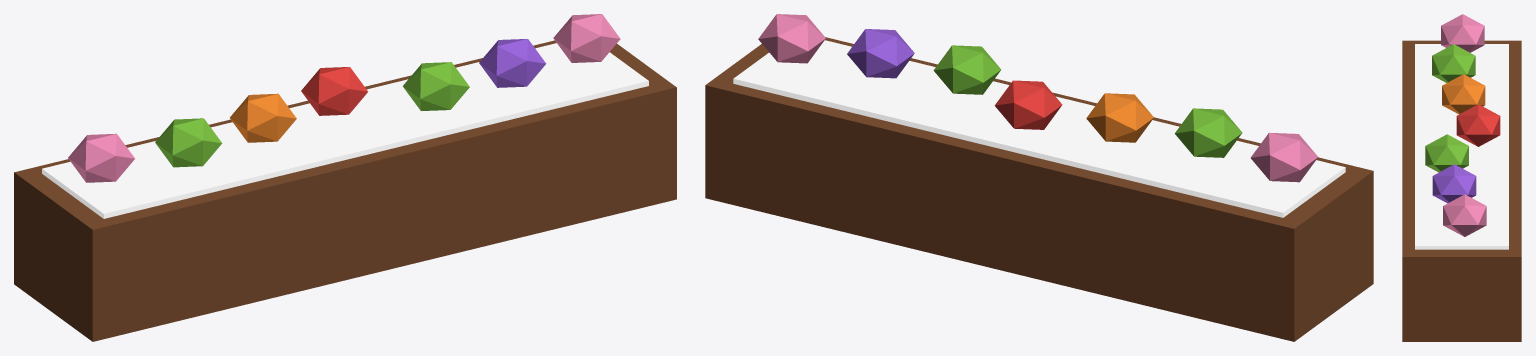
File: jardinera.glb
The picture shows the model from 3 angles, left to right: view 1: azimuth 30°, elevation 25°; view 2: azimuth 150°, elevation 25°; view 3: azimuth 270°, elevation 25°; orthographic projection. The views are drawn at different scales.
Visible parts, largest first — view 1: caja, tierra, flor_2, flor_3, flor_7, flor_1, flor_4, flor_6, flor_5; view 2: caja, tierra, flor_6, flor_2, flor_3, flor_4, flor_5, flor_7, flor_1; view 3: caja, tierra, flor_4, flor_7, flor_3, flor_6, flor_2, flor_1, flor_5.
Boxes of the visible parts, x1=… form: caja: x1=14, y1=40, x2=676, y2=341; tierra: x1=42, y1=43, x2=648, y2=218; flor_2: x1=155, y1=118, x2=222, y2=167; flor_3: x1=230, y1=93, x2=296, y2=142; flor_7: x1=553, y1=14, x2=620, y2=62; flor_1: x1=68, y1=133, x2=134, y2=182; flor_4: x1=301, y1=67, x2=367, y2=115; flor_6: x1=479, y1=39, x2=546, y2=87; flor_5: x1=403, y1=62, x2=469, y2=110; caja: x1=705, y1=37, x2=1373, y2=341; tierra: x1=733, y1=40, x2=1345, y2=217; flor_6: x1=847, y1=29, x2=914, y2=78; flor_2: x1=1174, y1=108, x2=1242, y2=157; flor_3: x1=1086, y1=93, x2=1153, y2=142; flor_4: x1=994, y1=80, x2=1062, y2=129; flor_5: x1=933, y1=45, x2=1001, y2=94; flor_7: x1=758, y1=14, x2=825, y2=63; flor_1: x1=1250, y1=132, x2=1317, y2=182; caja: x1=1402, y1=40, x2=1521, y2=341; tierra: x1=1415, y1=44, x2=1508, y2=249; flor_4: x1=1456, y1=104, x2=1500, y2=146; flor_7: x1=1443, y1=194, x2=1486, y2=236; flor_3: x1=1442, y1=74, x2=1485, y2=114; flor_6: x1=1432, y1=164, x2=1476, y2=203; flor_2: x1=1432, y1=44, x2=1475, y2=82; flor_1: x1=1441, y1=14, x2=1484, y2=52; flor_5: x1=1425, y1=134, x2=1468, y2=172.
Size of the model in its own units: 1.2 by 0.3208 by 0.28.
